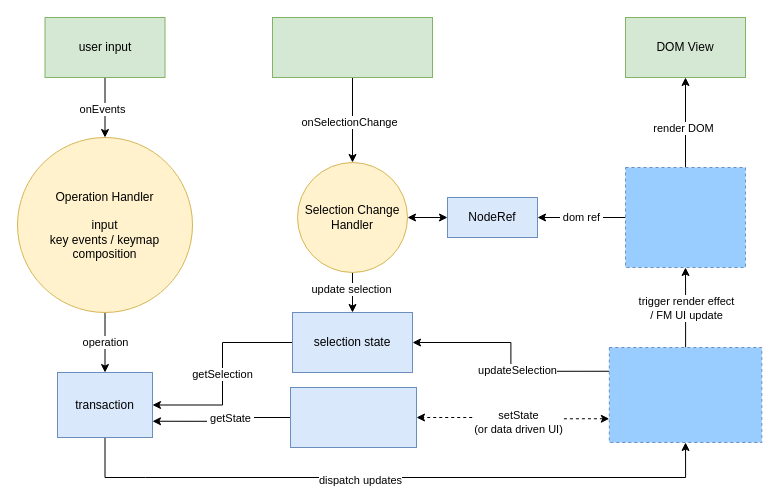
The diagram is 780 pixels wide and 504 high, and some of its shapes have lost their labels. The box of each missing label's shape, as (x1, y1, x2, y2) in pixels:
doc state: (290, 386, 416, 448)
UI Renderer: (624, 166, 746, 268)
updater (based on render): (608, 346, 762, 442)
user changes selection: (272, 16, 432, 78)
